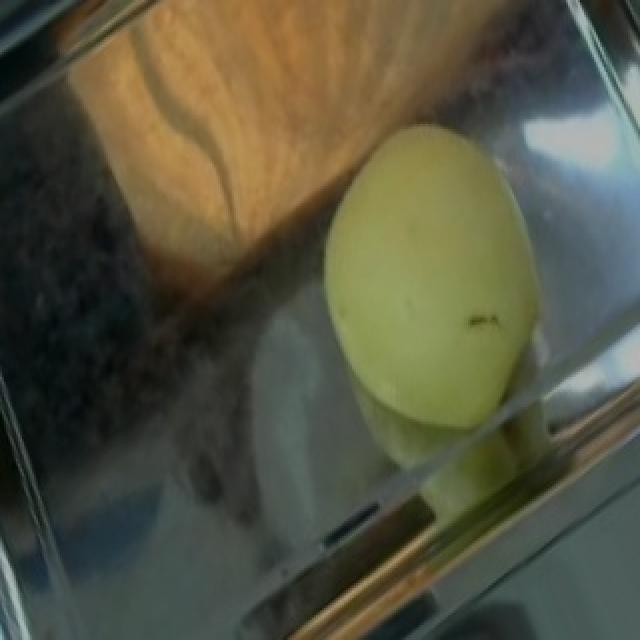Fruit: (276, 84, 592, 484), (34, 0, 368, 315)
